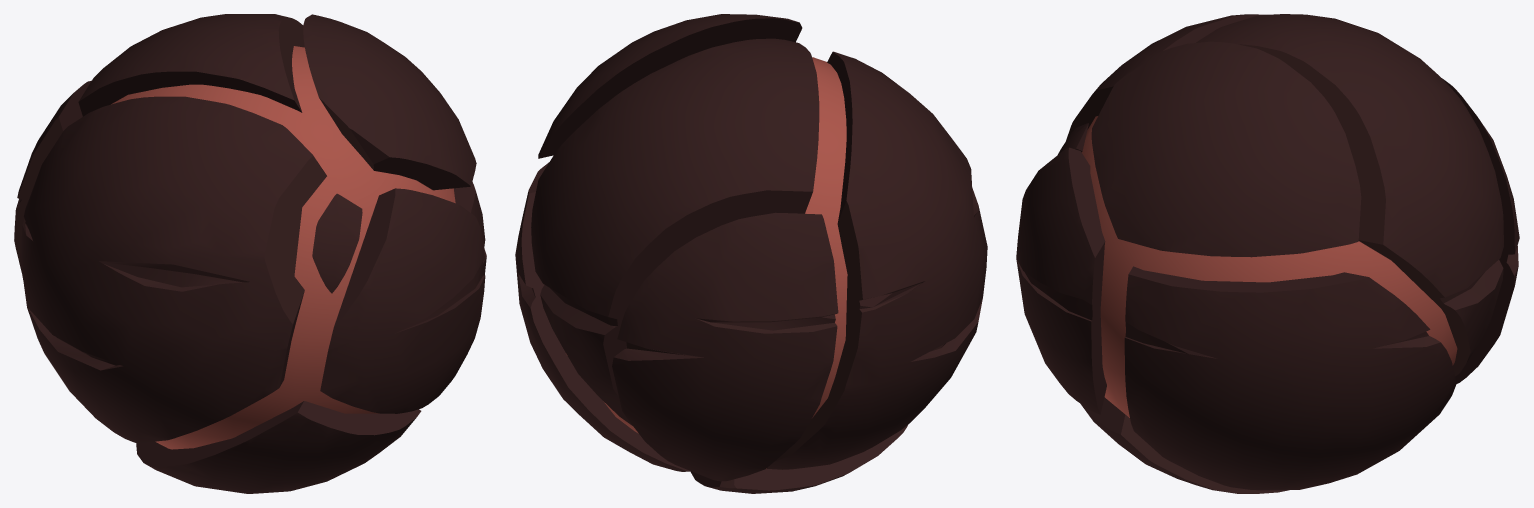
The model's file is q-planet-18uxrb2dlc.glb.
3 renders of one model, left to right at view 1: azimuth 30°, elevation 25°; view 2: azimuth 150°, elevation 25°; view 3: azimuth 270°, elevation 25°, orthographic. The views are drawn at different scales.
Visible parts, largest first — view 1: Planet_11; view 2: Planet_11; view 3: Planet_11.
Boxes of the visible parts, bbox=[...] form: Planet_11: bbox=[14, 14, 486, 493]; Planet_11: bbox=[515, 14, 987, 493]; Planet_11: bbox=[1016, 14, 1519, 493].
Size of the model in its own units: 5.59 by 5.67 by 5.74.
1 material, 1 textured.
